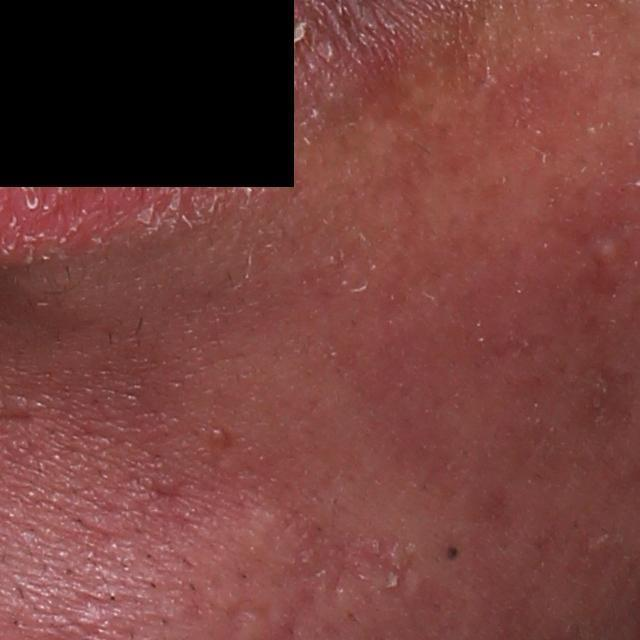hypertrophic_scar: (225, 501, 288, 575), (309, 580, 370, 630)
nevus: (441, 541, 463, 569)
